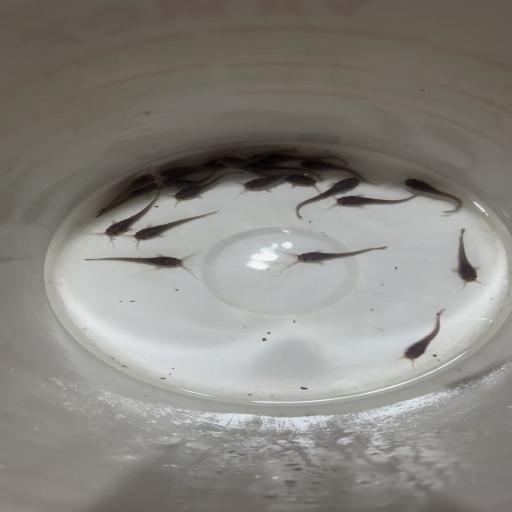lele: (391, 307, 452, 366), (93, 194, 166, 243), (274, 243, 388, 274), (129, 210, 219, 249), (294, 176, 362, 220), (82, 251, 201, 276), (170, 170, 242, 208), (396, 175, 463, 214), (88, 172, 157, 207), (450, 227, 487, 290), (322, 192, 425, 213), (299, 158, 380, 184), (106, 182, 162, 218), (215, 146, 297, 169), (240, 171, 306, 193), (255, 170, 325, 189), (256, 149, 346, 163), (161, 171, 219, 190), (252, 162, 320, 178), (154, 163, 221, 179), (192, 155, 223, 169)
